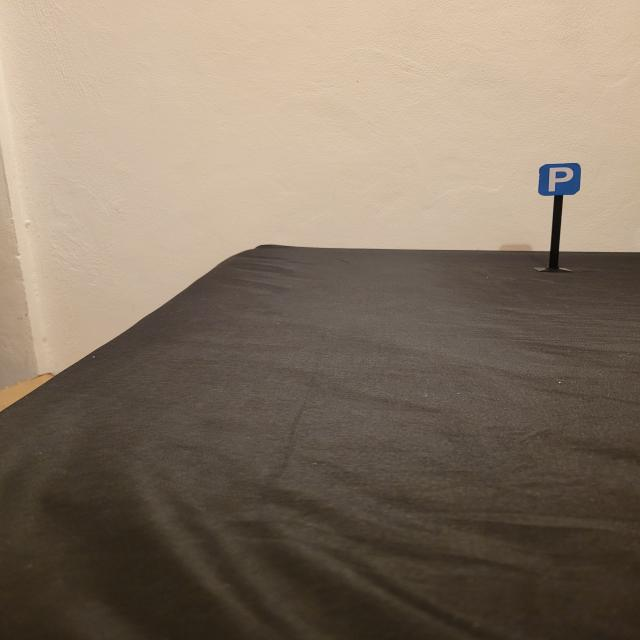parking: (538, 163, 581, 196)
